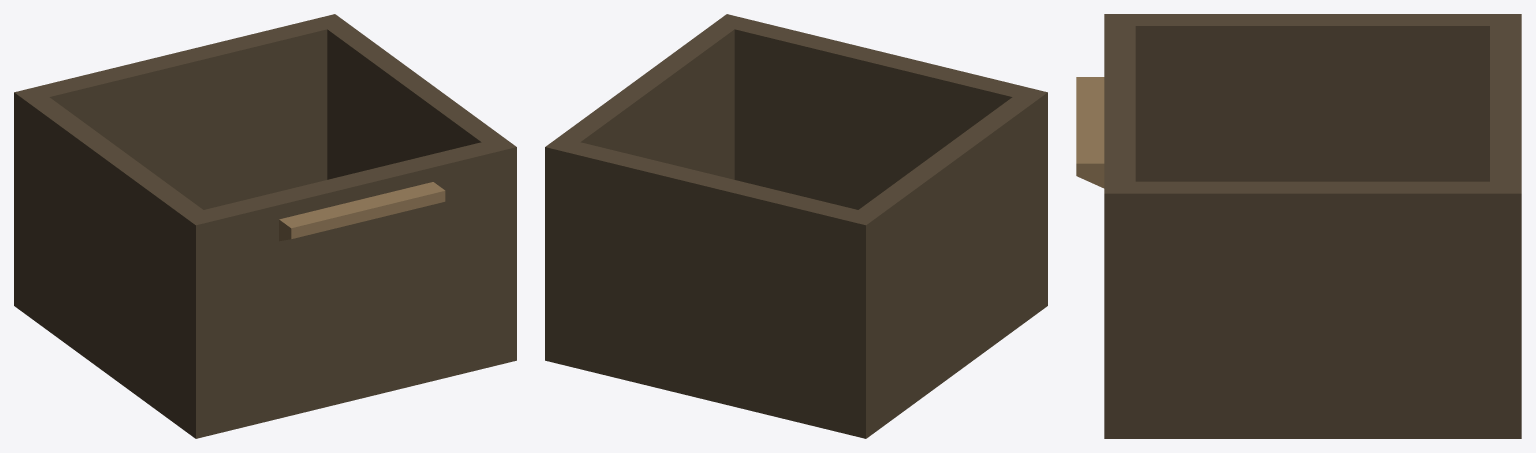
The model's file is Office_Desk_drawer2.fbx.
The picture shows the model from 3 angles, left to right: view 1: azimuth 30°, elevation 25°; view 2: azimuth 150°, elevation 25°; view 3: azimuth 270°, elevation 25°; orthographic projection. The views are drawn at different scales.
Parts seen in each view (by area): view 1: Office_Desk_drawer2; view 2: Office_Desk_drawer2; view 3: Office_Desk_drawer2.
Boxes of the visible parts, box(x1,y1,x2,y2) form: Office_Desk_drawer2: box(14, 14, 516, 438); Office_Desk_drawer2: box(545, 14, 1047, 438); Office_Desk_drawer2: box(1076, 14, 1521, 438).
Size of the model in its own units: 51.01 by 32.44 by 53.36.
